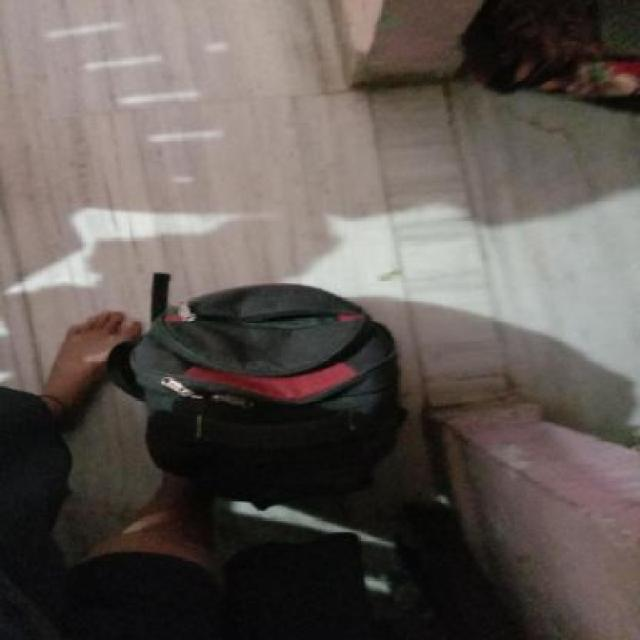backpack: (103, 278, 417, 504)
